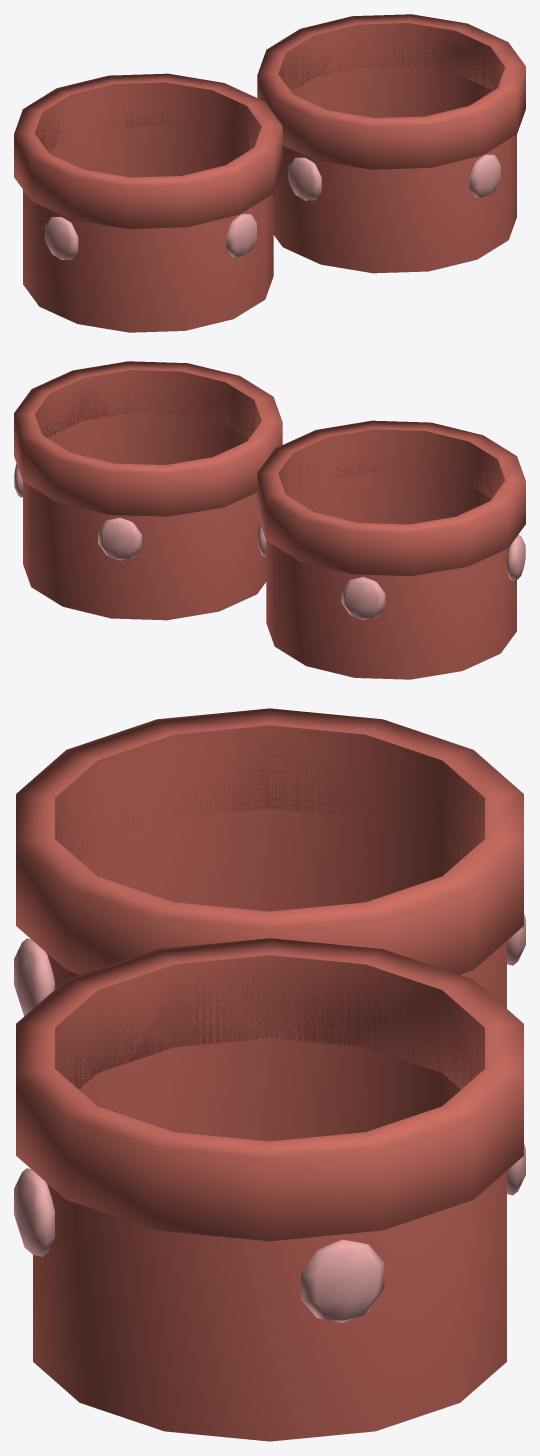
The model's file is mixed_tweed_socks.glb.
3 views of the same model, one above another, from view 1: azimuth 30°, elevation 25°; view 2: azimuth 150°, elevation 25°; view 3: azimuth 270°, elevation 25° (orthographic). The views are drawn at different scales.
Parts seen in each view (by area): view 1: mixed_tweed_socks_LegL, mixed_tweed_socks_LegR; view 2: mixed_tweed_socks_LegL, mixed_tweed_socks_LegR; view 3: mixed_tweed_socks_LegR, mixed_tweed_socks_LegL.
Part boxes in pixels (x1=…): mixed_tweed_socks_LegL: x1=14, y1=73, x2=282, y2=332; mixed_tweed_socks_LegR: x1=257, y1=14, x2=525, y2=273; mixed_tweed_socks_LegL: x1=257, y1=420, x2=525, y2=679; mixed_tweed_socks_LegR: x1=14, y1=361, x2=282, y2=620; mixed_tweed_socks_LegR: x1=14, y1=938, x2=525, y2=1441; mixed_tweed_socks_LegL: x1=14, y1=708, x2=525, y2=1016.
Bounding box in the file's own units: 0.372 × 0.112 × 0.1789.
